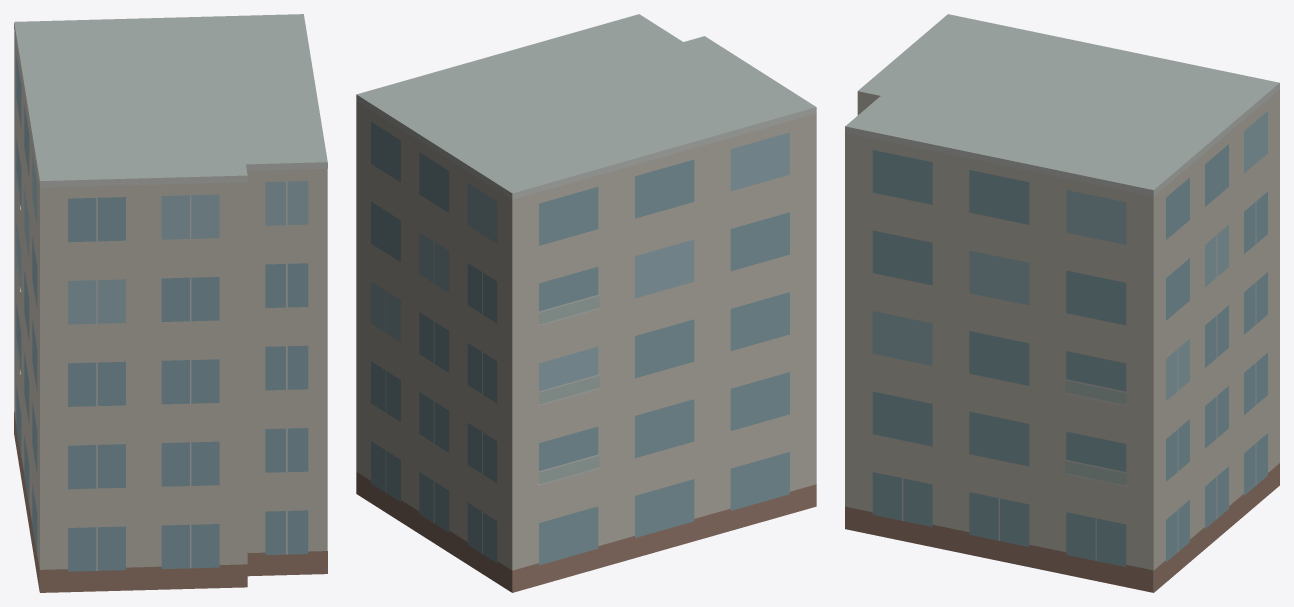
The model's file is survey-upis-33041657.glb.
3 views of the same model, side by side, from view 1: azimuth 30°, elevation 25°; view 2: azimuth 150°, elevation 25°; view 3: azimuth 270°, elevation 25° (orthographic). The views are drawn at different scales.
Parts seen in each view (by area): view 1: survey-upis-33041657.tmp; view 2: survey-upis-33041657.tmp; view 3: survey-upis-33041657.tmp.
Boxes of the visible parts, box(x1,y1,x2,y2) form: survey-upis-33041657.tmp: box(14, 14, 327, 592); survey-upis-33041657.tmp: box(356, 14, 816, 592); survey-upis-33041657.tmp: box(845, 14, 1279, 592).
Bounding box in the file's own units: 14.46 × 15.4 × 15.08.
